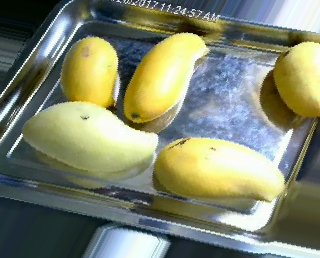Mango: (22, 101, 159, 171), (154, 138, 285, 202), (124, 31, 207, 120), (62, 35, 116, 108), (273, 43, 320, 118)
